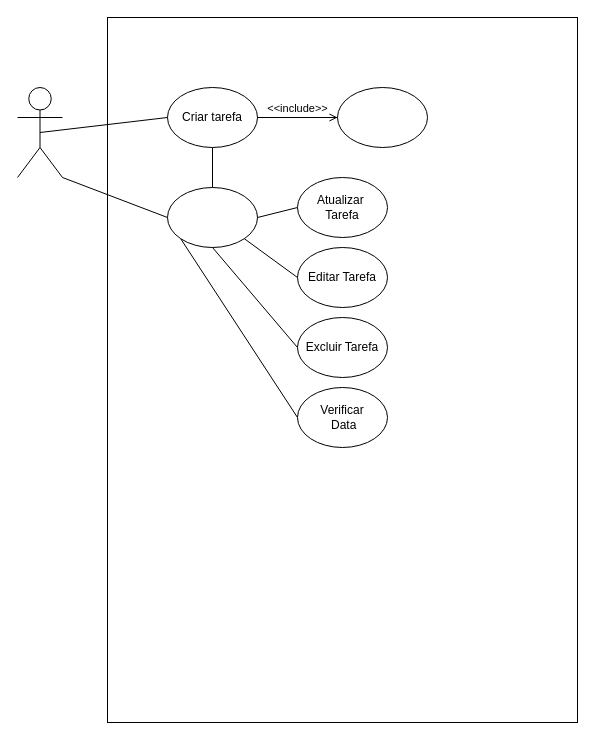
Some shapes in this 595 by 740 pixel diagram are drawn without their labels. The centre of each missing label's shape, as x and y in pixels:
"Alfredo" belongs at [39,132].
"Enviar Email" belongs at [382,117].
"Manipular Tarefas" belongs at [212,217].
